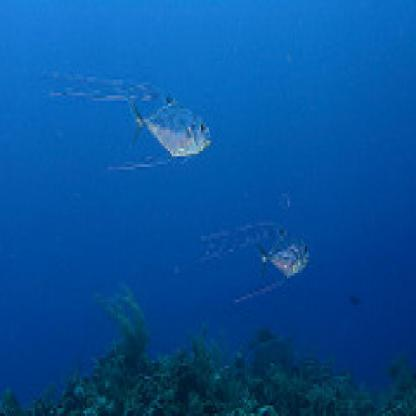Carangidae -Jacks-: (50, 67, 213, 168), (197, 210, 318, 298)
